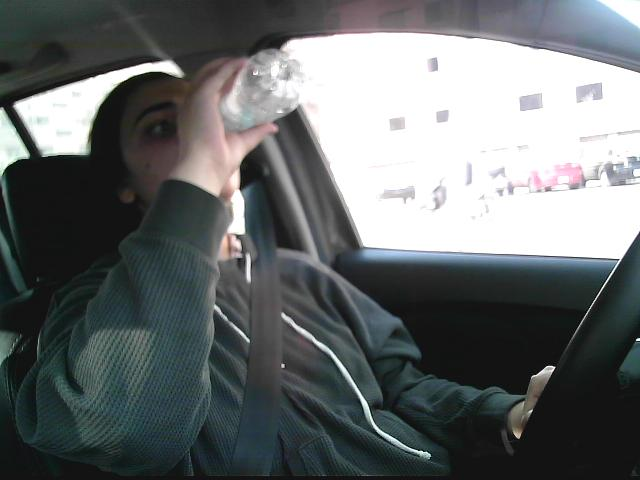Drinking: (194, 47, 310, 152)
